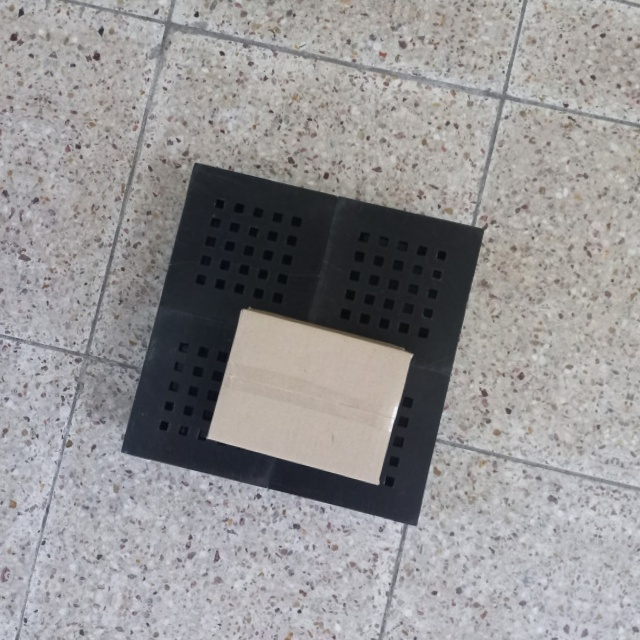box: (203, 303, 416, 489)
pallet: (111, 153, 495, 541)
